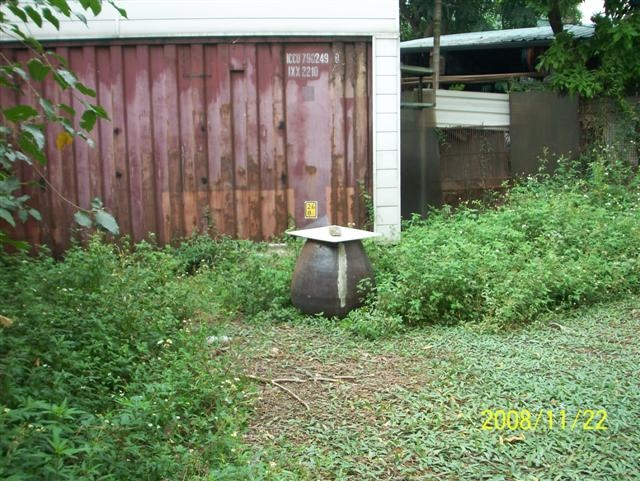bowl: (291, 238, 377, 318)
